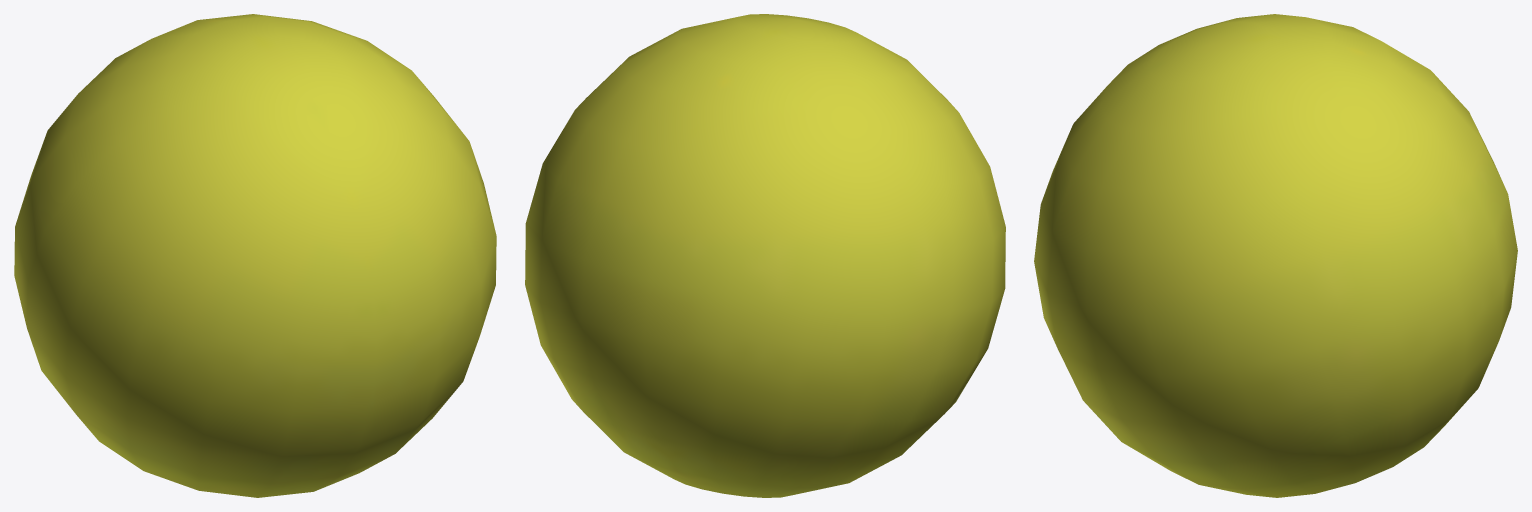
Rendered from chaoHeadBall.obj.
The picture shows the model from 3 angles, left to right: view 1: azimuth 30°, elevation 25°; view 2: azimuth 150°, elevation 25°; view 3: azimuth 270°, elevation 25°; orthographic projection.
Parts seen in each view (by area): view 1: chd_b_M.010; view 2: chd_b_M.010; view 3: chd_b_M.010.
Part boxes in pixels (x1=…): chd_b_M.010: x1=14, y1=14, x2=496, y2=497; chd_b_M.010: x1=525, y1=14, x2=1005, y2=497; chd_b_M.010: x1=1034, y1=14, x2=1517, y2=497.
Bounding box in the file's own units: 2.54 × 2.58 × 2.58.
Materials: 1 (1 with a texture image).
